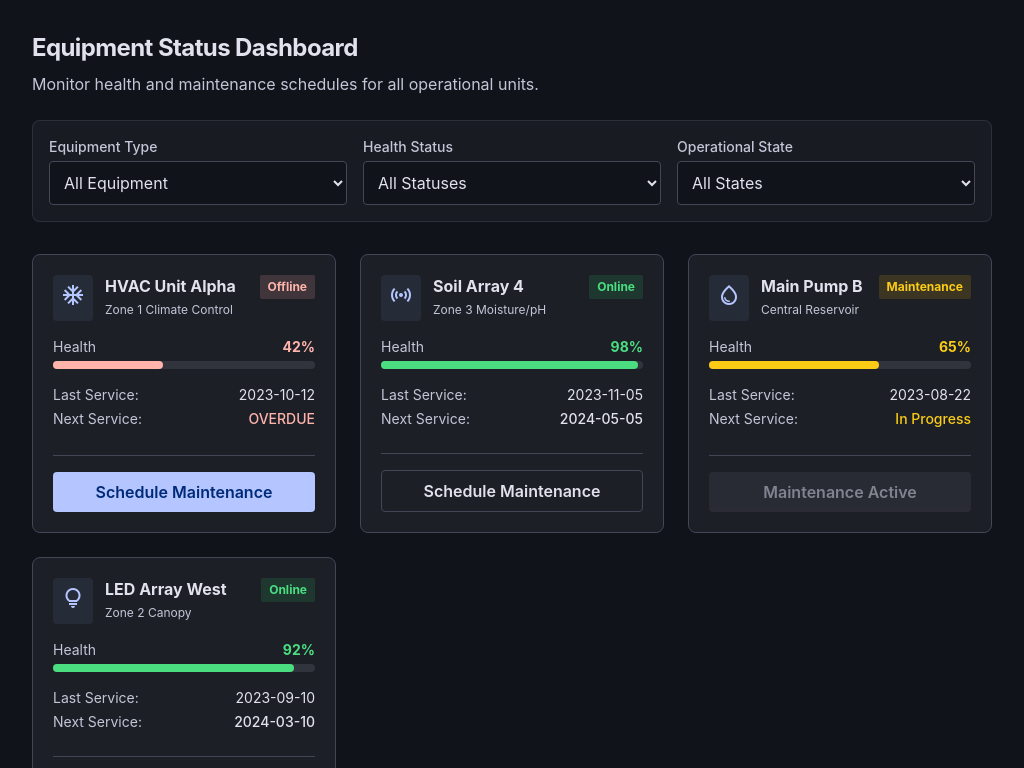
Scenario: EquipmentStatus › filters by operational state
Select "Offline" in the dropdown labelled "Operational State": (826, 183) [677,161,975,205]
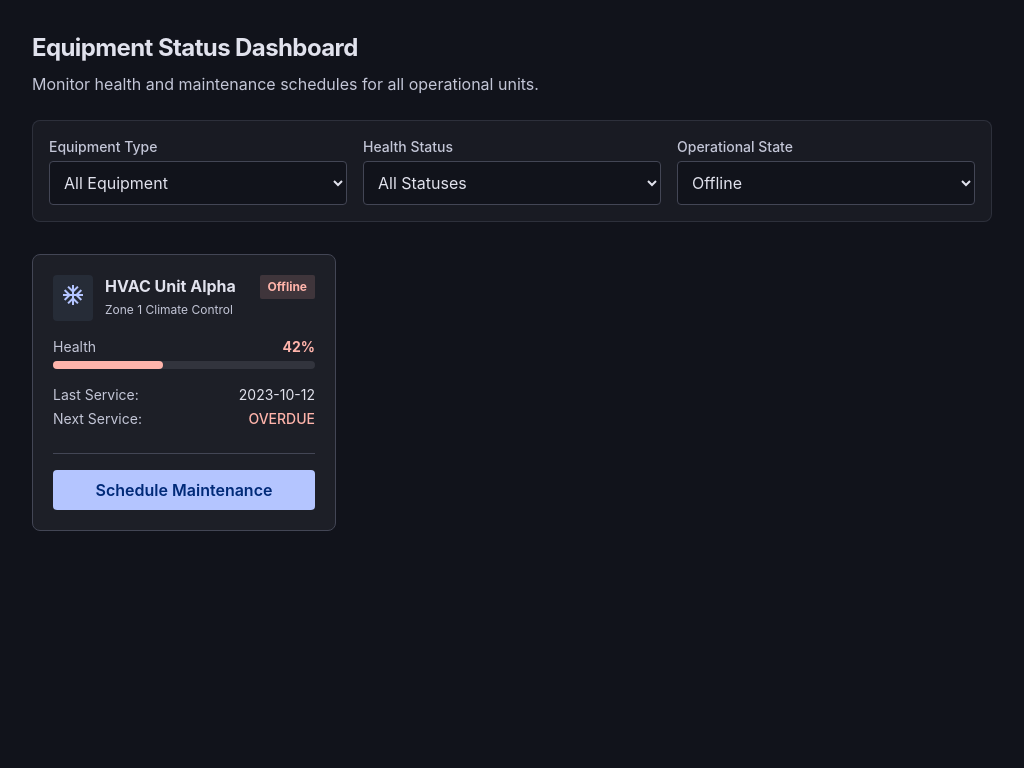
expect the heading "HVAC Unit Alpha" is shown: met, box [105,276,236,296]
expect the heading "Soil Array 4" is gone: met
